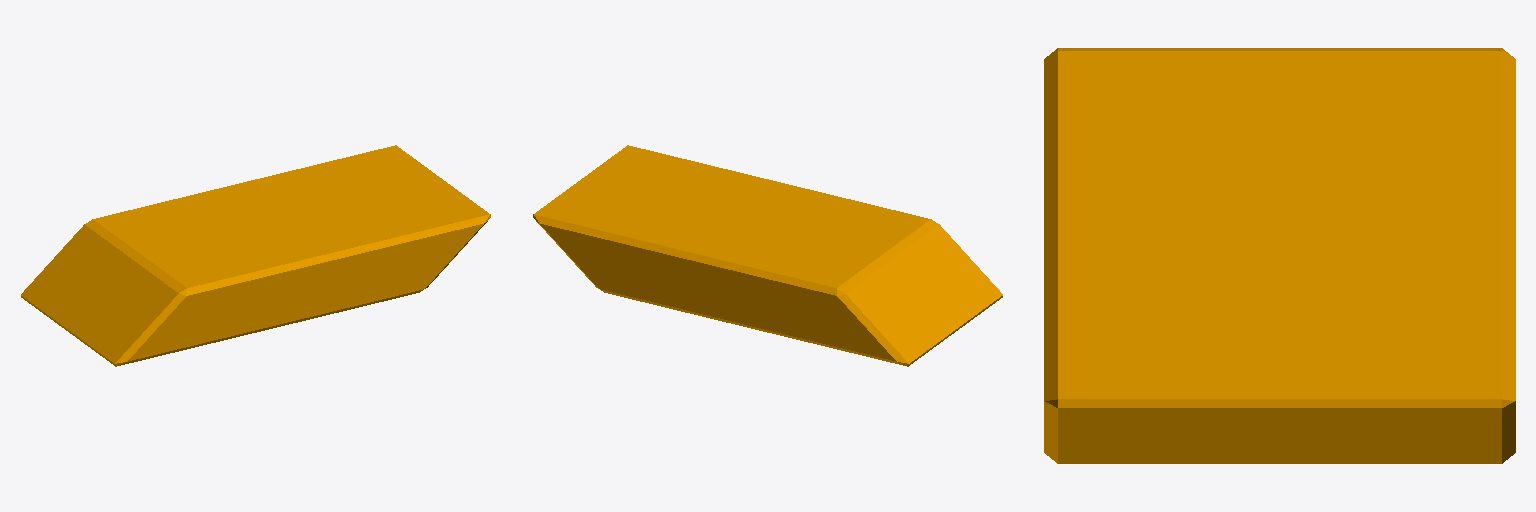
URDF robot description (eraser):
<robot name="eraser">
  <link name="eraser">
    <inertial>
      <origin xyz="0 0 0.0145"/>
      <mass value="0.1" />
      <inertia  ixx="0.0001" ixy="0.0"  ixz="0.0"  iyy="0.0001"  iyz="0.0"  izz="0.0001" />
    </inertial>
    <visual>
      <origin xyz="0 0 0.0145"/>
      <geometry>        
     <mesh filename="eraser.dae" scale="1 1 1"/>
    </geometry>
    </visual>
    <collision>
      <origin xyz="0 0 0.0145"/>
      <geometry>
        <box size="0.029 0.029 0.029"/>
      </geometry>
    </collision>
  </link>
  <gazebo reference="eraser">
    <material>Gazebo/Blue</material>
  </gazebo>
</robot>

--- What the picture shows (computed from the rendered views, not written in the file) ---
Views: 3 orthographic renders of the robot side by side, from view 1: azimuth 30°, elevation 25°; view 2: azimuth 150°, elevation 25°; view 3: azimuth 270°, elevation 25°.
Robot: eraser — 1 links, 0 joints (none); root link eraser; default pose: every joint at zero.
Links seen in each view (by area): view 1: eraser; view 2: eraser; view 3: eraser.
Boxes of the visible links, x1,y1,x2,y2 form: eraser: (21, 145, 490, 366); eraser: (533, 145, 1002, 366); eraser: (1044, 48, 1515, 463).
Size in the robot's own frame: 0.0508 by 0.0233 by 0.0079 metres.
Meshes: 1 distinct files referenced, 1 mesh visuals loaded (1 Collada DAE).